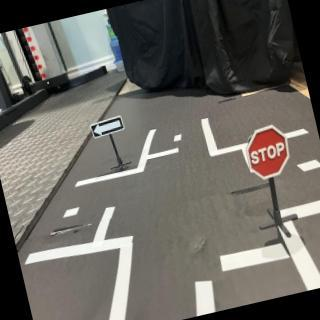sign_oneway_left: (89, 113, 127, 141)
sign_stop: (242, 123, 295, 182)
